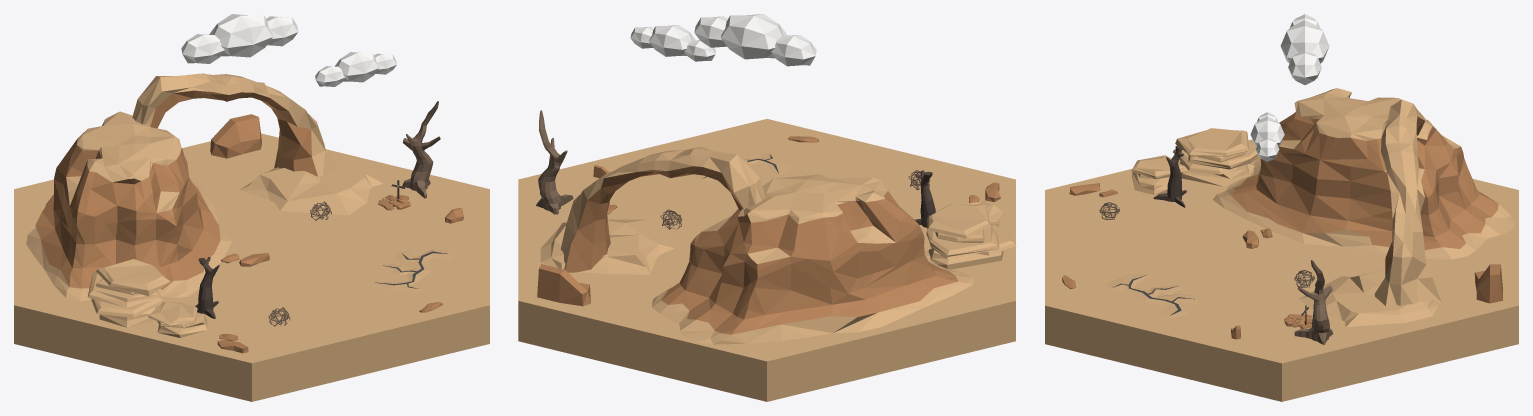
Rendered from Tile_25.fbx.
The picture shows the model from 3 angles, left to right: view 1: azimuth 30°, elevation 25°; view 2: azimuth 150°, elevation 25°; view 3: azimuth 270°, elevation 25°; orthographic projection. The views are drawn at different scales.
Parts seen in each view (by area): view 1: Tile_25_Base, Tile_25, Tile_25_grave; view 2: Tile_25, Tile_25_Base; view 3: Tile_25_Base, Tile_25.
Boxes of the visible parts, x1=… form: Tile_25_Base: x1=14, y1=133, x2=489, y2=401; Tile_25: x1=26, y1=14, x2=463, y2=353; Tile_25_grave: x1=378, y1=180, x2=410, y2=210; Tile_25: x1=536, y1=14, x2=1016, y2=344; Tile_25_Base: x1=518, y1=119, x2=1015, y2=401; Tile_25_Base: x1=1045, y1=139, x2=1518, y2=401; Tile_25: x1=1062, y1=14, x2=1515, y2=344.
Bounding box in the file's own units: 2318 × 2007 × 1218.
